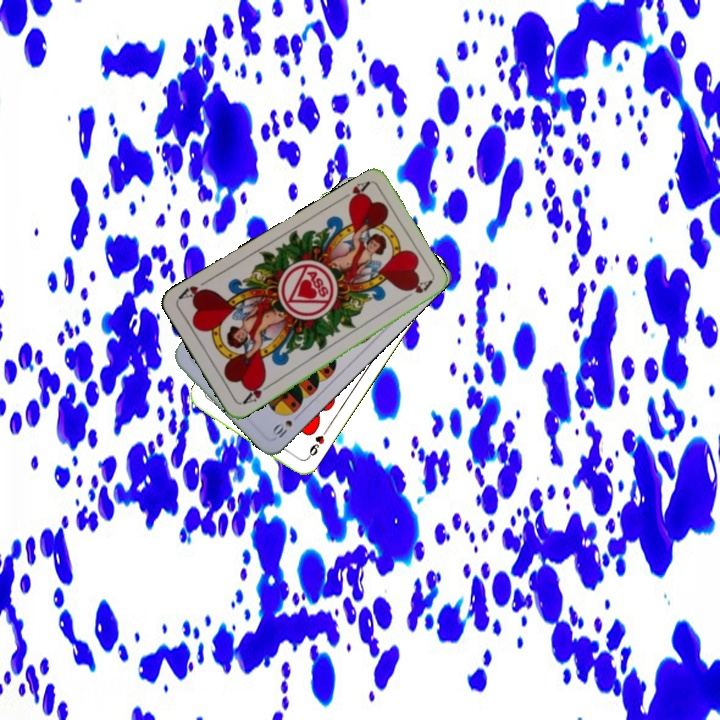H9: (302, 426, 330, 462)
HA: (335, 177, 373, 208), (238, 377, 274, 407)
S10: (268, 416, 295, 442)
